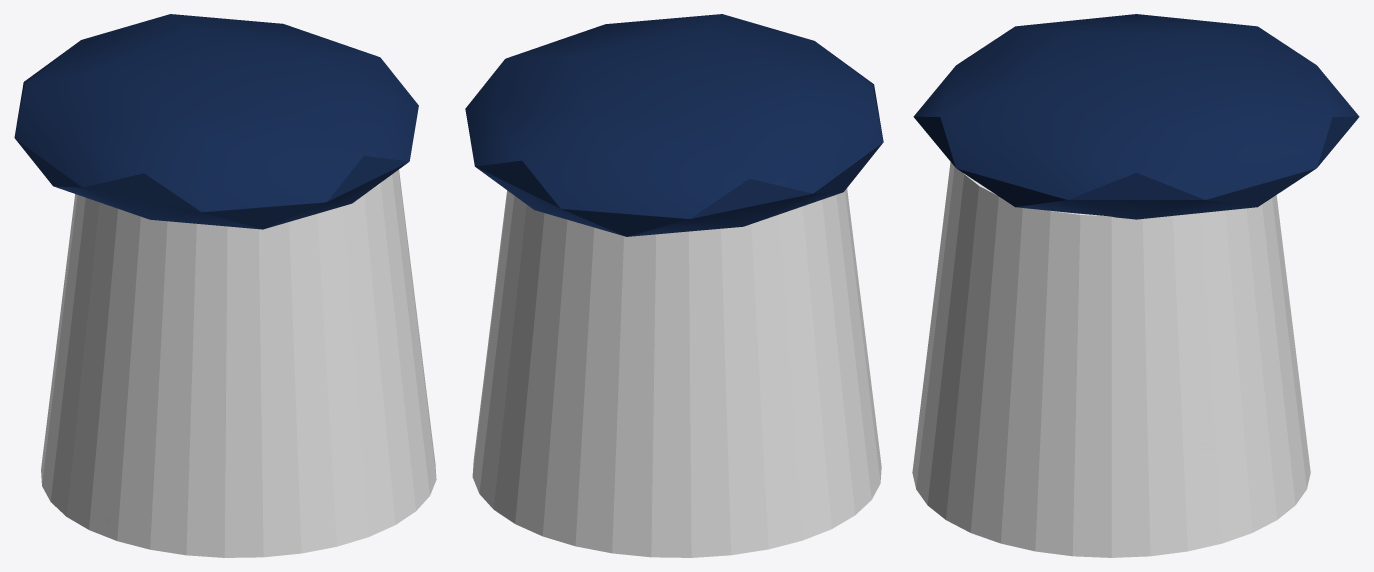
File: BancoS5.obj
The picture shows the model from 3 angles, left to right: view 1: azimuth 30°, elevation 25°; view 2: azimuth 150°, elevation 25°; view 3: azimuth 270°, elevation 25°; orthographic projection. The views are drawn at different scales.
Visible parts, largest first — view 1: BancoS5; view 2: BancoS5; view 3: BancoS5.
Part boxes in pixels (x1,y1,x2,y2): BancoS5: (14,14,436,557); BancoS5: (465,14,883,557); BancoS5: (912,14,1359,557).
Bounding box in the file's own units: 2.2 × 2.41 × 2.41.
Materials: 2 (2 with a texture image).
